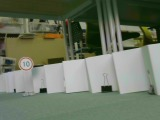speed_10: (16, 56, 34, 73)
